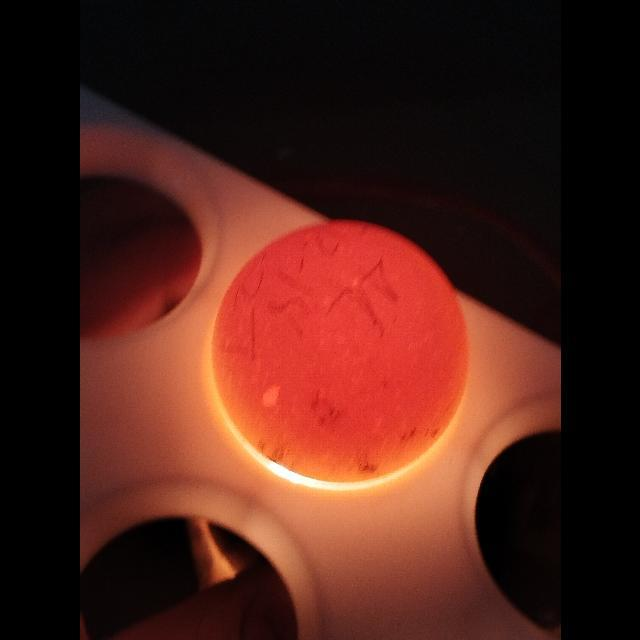Infertile: (218, 217, 462, 485)
